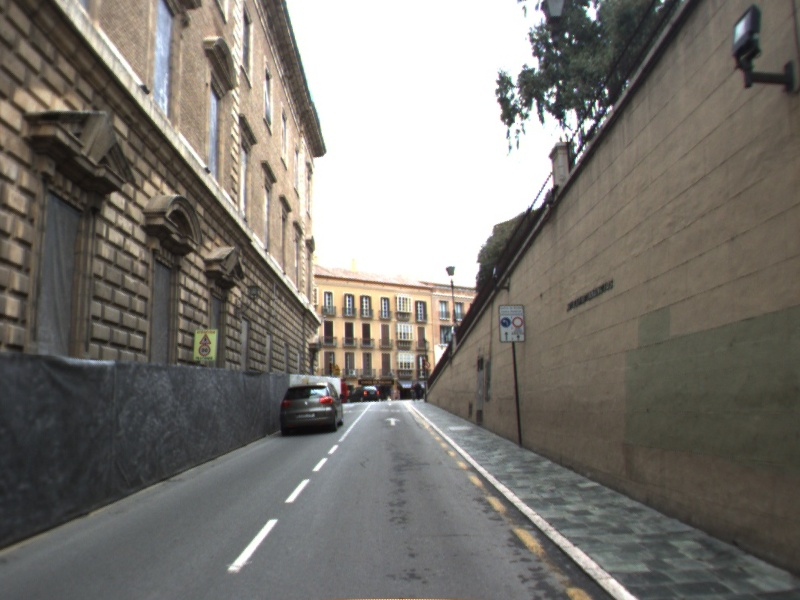STRAIGHT: (382, 415, 403, 428)
